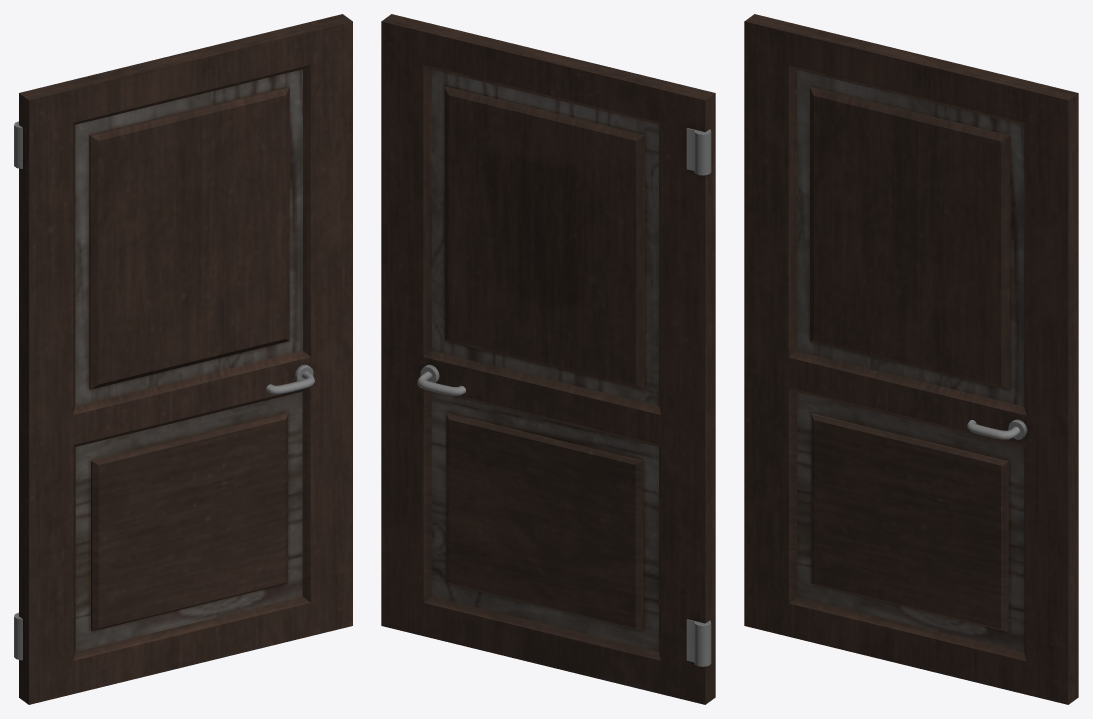
File: Door.fbx
3 renders of one model, left to right at view 1: azimuth 30°, elevation 25°; view 2: azimuth 150°, elevation 25°; view 3: azimuth 330°, elevation 25°, orthographic.
Visible parts, largest first — view 1: SM_BettingDoor; view 2: SM_BettingDoor, SM_BettingDoor_Hundle; view 3: SM_BettingDoor, SM_BettingDoor_Hundle.
Part boxes in pixels (x1,y1,x2,y2): SM_BettingDoor: (14, 14, 352, 704); SM_BettingDoor: (381, 14, 715, 704); SM_BettingDoor_Hundle: (417, 371, 465, 395); SM_BettingDoor: (744, 14, 1078, 704); SM_BettingDoor_Hundle: (967, 420, 1020, 439).
Size of the model in its own units: 128 by 225 by 25.91.
